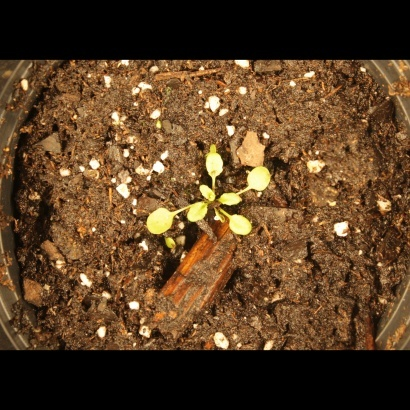leaf: (138, 204, 180, 238), (195, 147, 234, 177), (225, 211, 259, 241), (246, 165, 278, 193), (186, 199, 210, 226), (219, 186, 246, 209), (196, 181, 220, 205)
